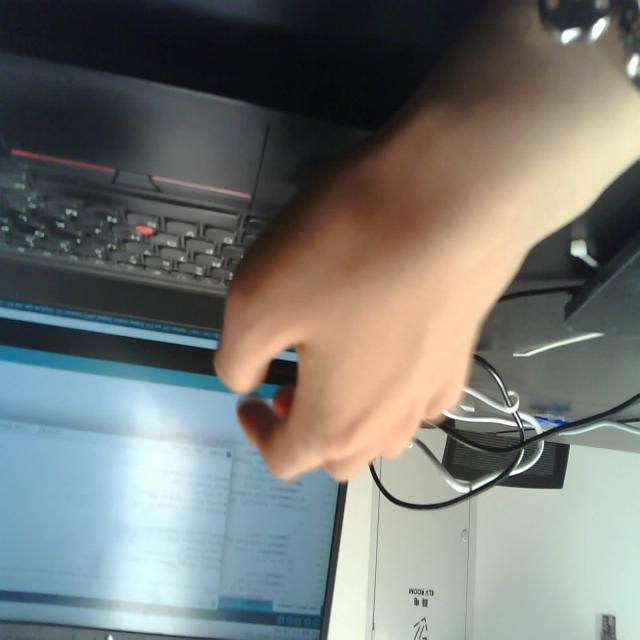keyboard-with-hands: (0, 41, 403, 337)
